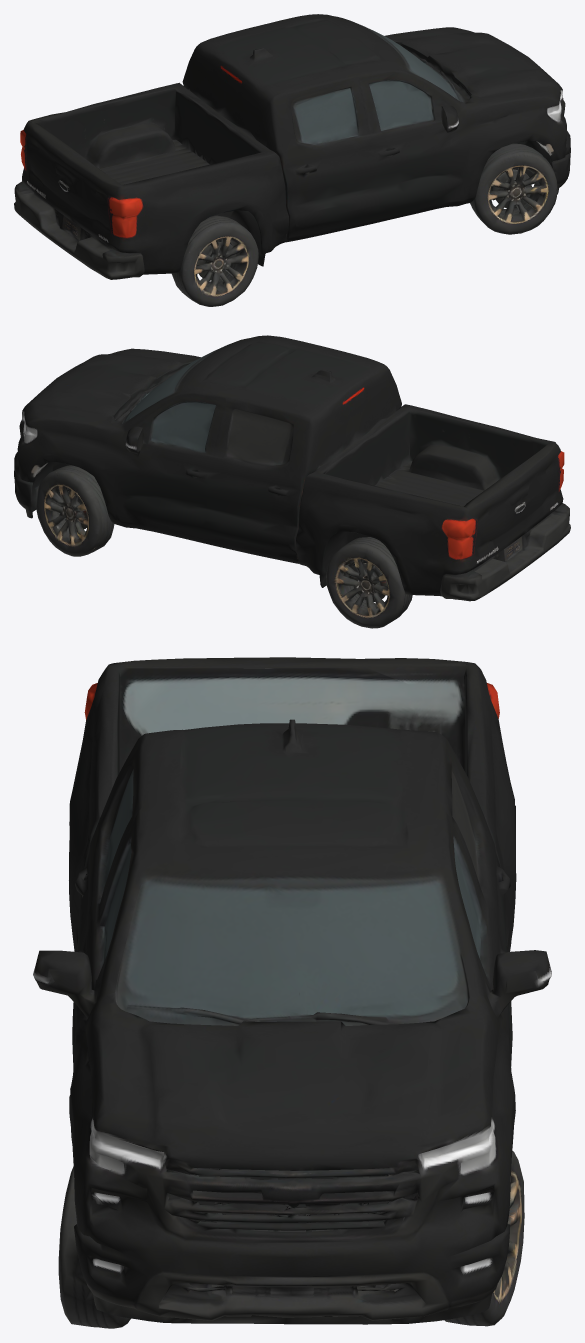
The model's file is truck.glb.
The picture shows the model from 3 angles, top to bottom: view 1: azimuth 30°, elevation 25°; view 2: azimuth 150°, elevation 25°; view 3: azimuth 270°, elevation 25°; orthographic projection. The views are drawn at different scales.
Parts seen in each view (by area): view 1: tripo_node_b46720e3-16e5-4280-a35f-eea52a907b3f; view 2: tripo_node_b46720e3-16e5-4280-a35f-eea52a907b3f; view 3: tripo_node_b46720e3-16e5-4280-a35f-eea52a907b3f.
Boxes of the visible parts, left/top/right/bottom form: tripo_node_b46720e3-16e5-4280-a35f-eea52a907b3f: left=14, top=14, right=570, bottom=306; tripo_node_b46720e3-16e5-4280-a35f-eea52a907b3f: left=14, top=335, right=570, bottom=628; tripo_node_b46720e3-16e5-4280-a35f-eea52a907b3f: left=33, top=657, right=551, bottom=1328.
Size of the model in its own units: 1 by 0.3883 by 0.4631.
1 material, 1 textured.
